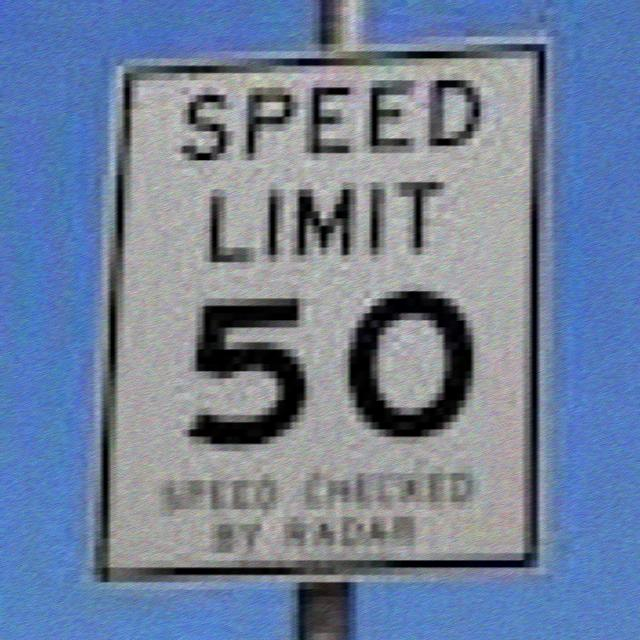speedLimit50: (98, 58, 542, 575)
